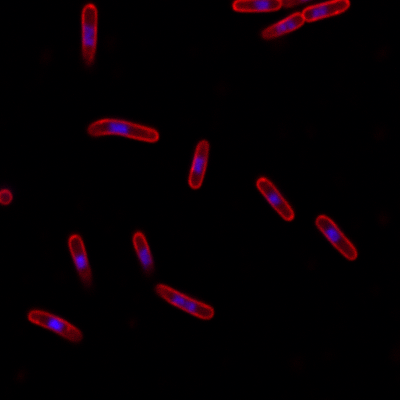Nalidixate: (153, 283, 216, 321), (26, 306, 85, 345), (314, 212, 359, 262), (85, 116, 160, 144), (255, 175, 294, 223), (188, 138, 210, 189)
Oblique: (258, 0, 354, 42), (64, 234, 95, 292), (81, 4, 101, 66), (132, 229, 153, 276)
